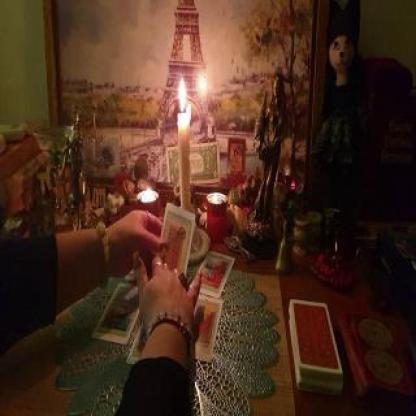fire: (175, 73, 190, 117)
